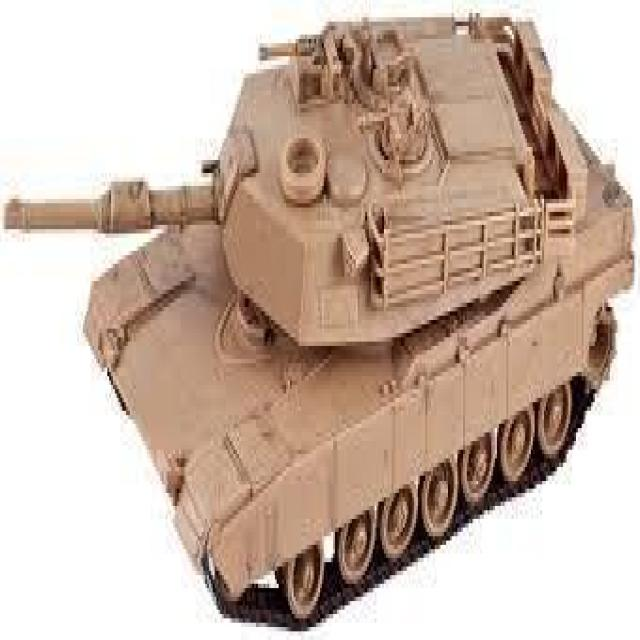Tanks: (54, 20, 568, 608)
